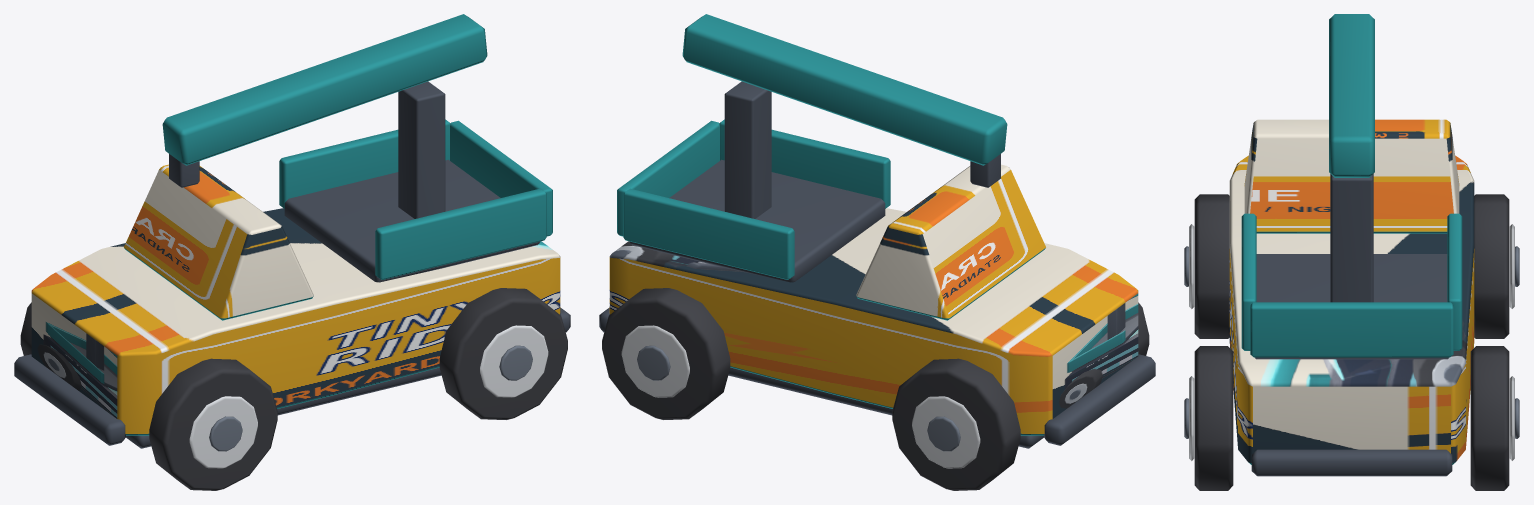
3 renders of one model, left to right at view 1: azimuth 30°, elevation 25°; view 2: azimuth 150°, elevation 25°; view 3: azimuth 270°, elevation 25°, orthographic. The views are drawn at different scales.
Visible parts, largest first — view 1: WY-04_connected_shell, WY-04_cabin, boom, Tire, Tire.002, cargo side, cargo floor, boom pillar, cargo side.001, cargo tail, front bumper, Rim (+5 smaller); view 2: WY-04_connected_shell, WY-04_cabin, boom, Tire.001, Tire.003, cargo side.001, cargo floor, boom pillar, cargo side, cargo tail, front bumper, Rim.001 (+5 smaller); view 3: WY-04_connected_shell, WY-04_cabin, cargo tail, cargo floor, boom, Tire.002, Tire.003, rear bumper, boom pillar, Tire, Tire.001, cargo side (+5 smaller).
Part boxes in pixels (left/top/right/bottom): WY-04_connected_shell: left=31, top=208, right=560, bottom=435; WY-04_cabin: left=124, top=164, right=313, bottom=320; boom: left=162, top=14, right=487, bottom=165; Tire: left=149, top=358, right=277, bottom=490; Tire.002: left=439, top=288, right=567, bottom=419; cargo side: left=375, top=188, right=546, bottom=279; cargo floor: left=284, top=159, right=540, bottom=282; boom pillar: left=398, top=81, right=445, bottom=218; cargo side.001: left=279, top=119, right=450, bottom=208; cargo tail: left=450, top=120, right=552, bottom=236; front bumper: left=14, top=354, right=125, bottom=445; Rim: left=189, top=396, right=257, bottom=468; WY-04_connected_shell: left=609, top=208, right=1138, bottom=435; WY-04_cabin: left=856, top=164, right=1045, bottom=320; boom: left=682, top=14, right=1007, bottom=165; Tire.001: left=892, top=358, right=1020, bottom=490; Tire.003: left=602, top=288, right=730, bottom=419; cargo side.001: left=623, top=188, right=794, bottom=279; cargo floor: left=629, top=159, right=885, bottom=282; boom pillar: left=724, top=81, right=771, bottom=218; cargo side: left=719, top=119, right=890, bottom=208; cargo tail: left=617, top=120, right=719, bottom=236; front bumper: left=1044, top=354, right=1155, bottom=445; Rim.001: left=912, top=396, right=980, bottom=468; WY-04_connected_shell: left=1229, top=155, right=1474, bottom=464; WY-04_cabin: left=1244, top=119, right=1459, bottom=233; cargo tail: left=1250, top=302, right=1453, bottom=357; cargo floor: left=1254, top=254, right=1449, bottom=359; boom: left=1329, top=14, right=1374, bottom=177; Tire.002: left=1194, top=346, right=1233, bottom=490; Tire.003: left=1470, top=346, right=1509, bottom=490; rear bumper: left=1251, top=449, right=1452, bottom=476; boom pillar: left=1330, top=174, right=1373, bottom=302; Tire: left=1194, top=194, right=1229, bottom=338; Tire.001: left=1474, top=194, right=1509, bottom=338; cargo side: left=1241, top=213, right=1256, bottom=350.
Size of the model in its own units: 390 by 271 by 226.
